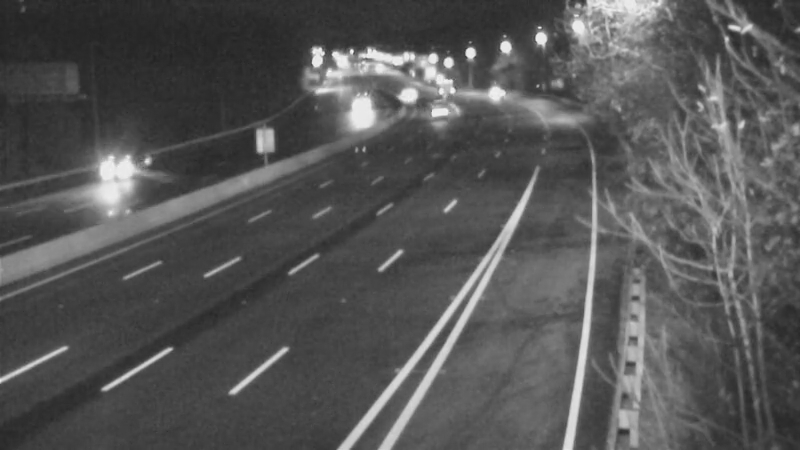vehicle: (72, 131, 152, 211), (466, 66, 516, 116), (415, 67, 465, 117), (379, 68, 429, 118), (409, 86, 459, 136), (334, 84, 384, 134)
